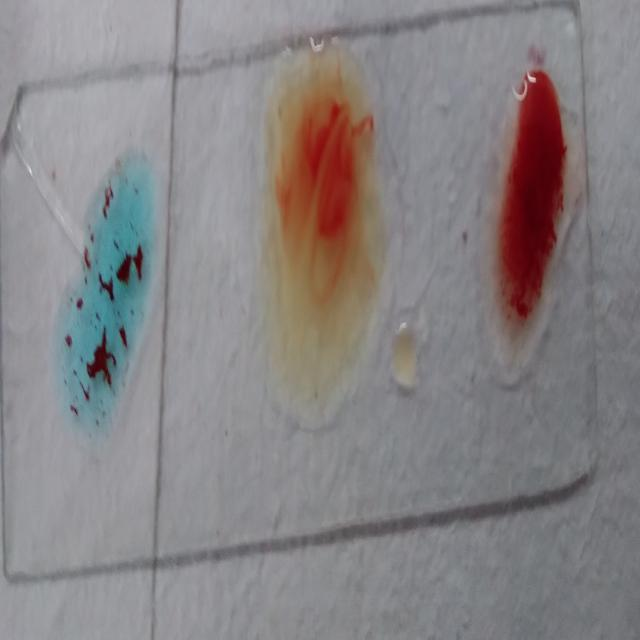A: (64, 157, 156, 436)
D: (476, 59, 572, 377)
